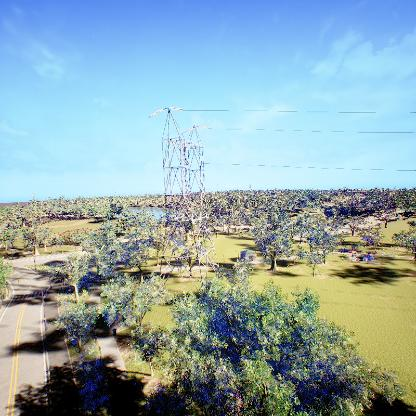tower: (146, 103, 215, 293)
